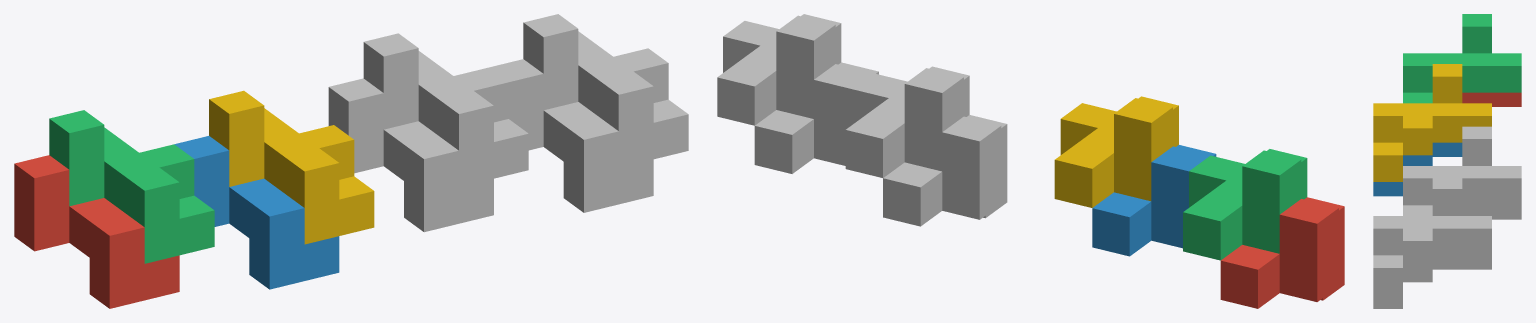
The model's file is tiling.obj.
The picture shows the model from 3 angles, left to right: view 1: azimuth 30°, elevation 25°; view 2: azimuth 150°, elevation 25°; view 3: azimuth 270°, elevation 25°; orthographic projection. The views are drawn at different scales.
Parts seen in each view (by area): view 1: copy_1_domain_8, copy_1_domain_3, copy_1_domain_4, copy_1_domain_7, copy_1_domain_1, copy_1_domain_5, copy_1_domain_2, copy_1_domain_6; view 2: copy_1_domain_4, copy_1_domain_7, copy_1_domain_3, copy_1_domain_8, copy_1_domain_5, copy_1_domain_1, copy_1_domain_6, copy_1_domain_2; view 3: copy_1_domain_8, copy_1_domain_4, copy_1_domain_3, copy_1_domain_7, copy_1_domain_6, copy_1_domain_2, copy_1_domain_1, copy_1_domain_5.
Boxes of the visible parts, x1,y1,x2,y2 form: copy_1_domain_8: [523, 14, 688, 167]; copy_1_domain_3: [49, 110, 214, 263]; copy_1_domain_4: [209, 90, 374, 244]; copy_1_domain_7: [363, 33, 528, 186]; copy_1_domain_1: [14, 155, 179, 308]; copy_1_domain_5: [328, 78, 493, 232]; copy_1_domain_2: [174, 136, 339, 289]; copy_1_domain_6: [489, 59, 653, 212]; copy_1_domain_4: [1054, 96, 1178, 207]; copy_1_domain_7: [845, 66, 969, 177]; copy_1_domain_3: [1183, 149, 1307, 260]; copy_1_domain_8: [717, 14, 841, 125]; copy_1_domain_5: [883, 115, 1007, 226]; copy_1_domain_1: [1220, 197, 1344, 308]; copy_1_domain_6: [754, 62, 878, 173]; copy_1_domain_2: [1092, 145, 1216, 256]; copy_1_domain_8: [1373, 176, 1491, 294]; copy_1_domain_4: [1373, 64, 1491, 181]; copy_1_domain_3: [1403, 14, 1521, 103]; copy_1_domain_7: [1403, 126, 1521, 215]; copy_1_domain_6: [1373, 255, 1491, 308]; copy_1_domain_2: [1373, 142, 1462, 196]; copy_1_domain_1: [1462, 92, 1521, 106]; copy_1_domain_5: [1462, 205, 1521, 219].
Bounding box in the file's own units: 17 × 4 × 5.
